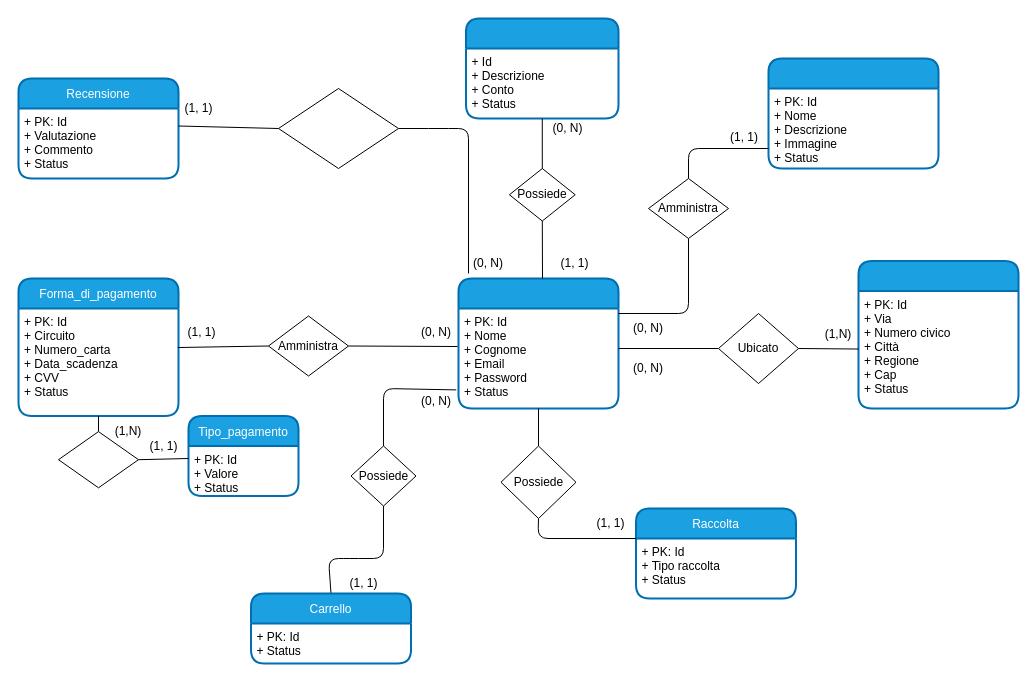
Some shapes in this 1036 by 681 pixel diagram are drawn without their labels. The shapes that lost their labels are listed below. From the top down, each one's box as (x1, y1, x2, y2) in pixels, then its label:
(464, 17, 619, 119): Claim
(278, 88, 398, 168): Scrive
(767, 57, 939, 169): Articolo
(457, 277, 619, 409): Utente
(857, 260, 1019, 409): Indirizzo
(58, 431, 138, 488): Rispettivo
